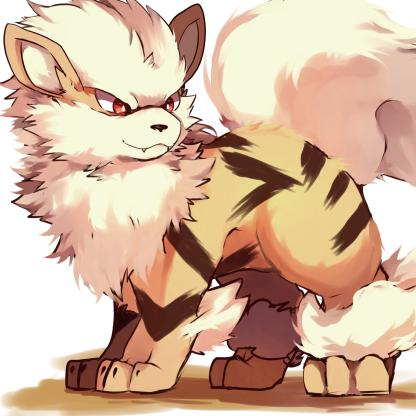Arcanine: (1, 1, 416, 407)
